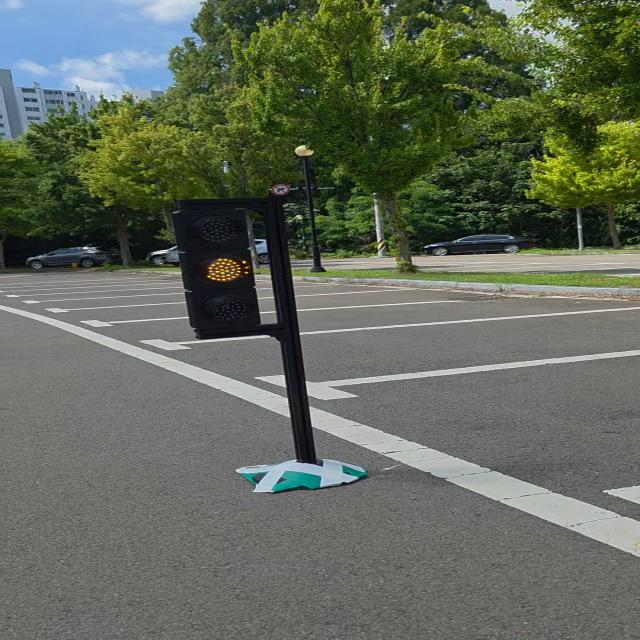yellow: (163, 196, 270, 341)
